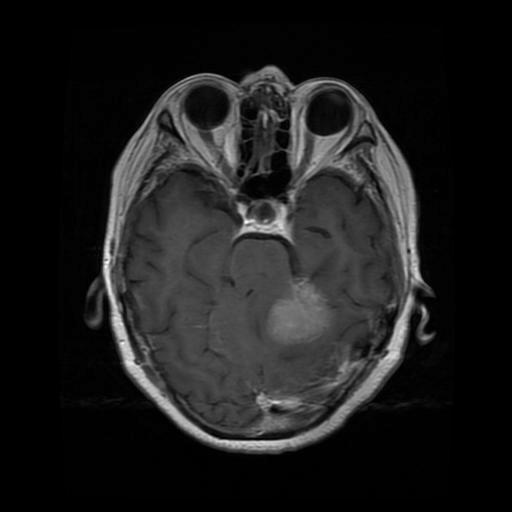Tumour-Meningioma: (246, 267, 353, 352)
